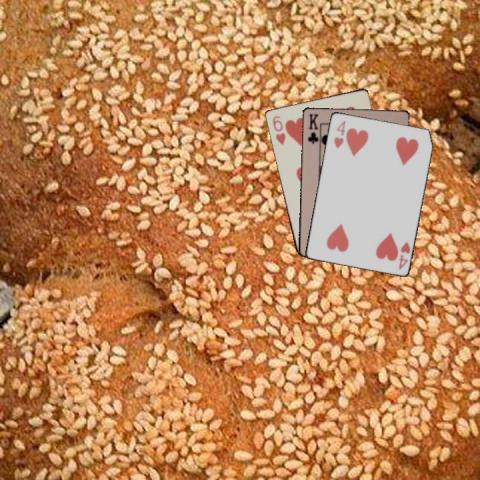4h: (395, 238, 412, 270), (330, 117, 346, 150)
6h: (269, 113, 287, 146)
Kc: (305, 111, 319, 145)
